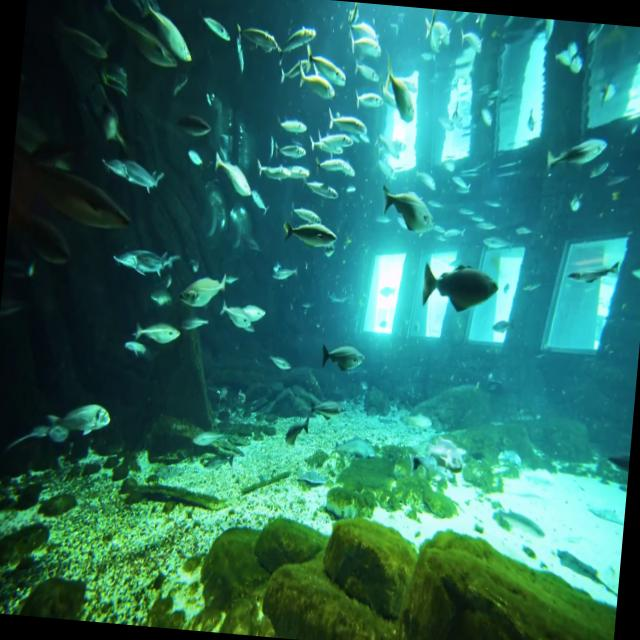fish: (133, 0, 198, 67), (419, 262, 498, 316), (100, 150, 165, 197), (48, 394, 112, 440), (544, 132, 606, 179), (114, 243, 186, 283), (380, 182, 434, 235), (210, 144, 256, 197), (380, 62, 418, 124), (178, 270, 228, 312), (294, 62, 338, 103), (279, 219, 338, 249), (319, 342, 366, 376), (215, 298, 257, 336), (324, 104, 368, 136)
